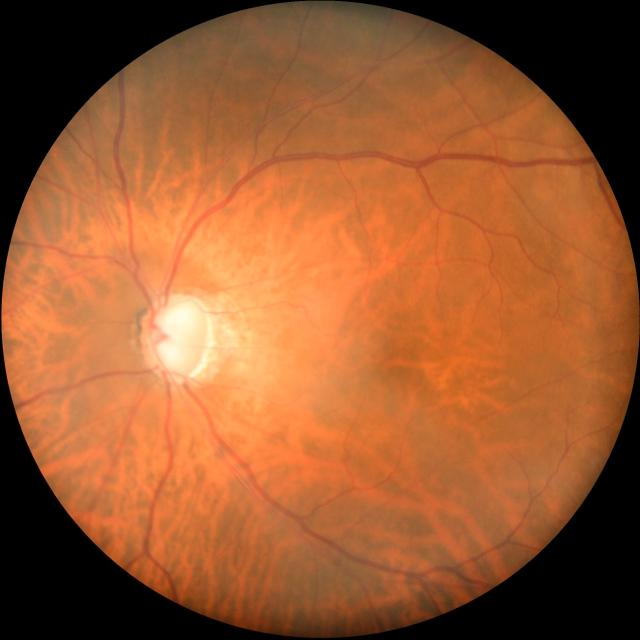OC: (148, 298, 208, 377)
OD: (140, 292, 212, 381)
